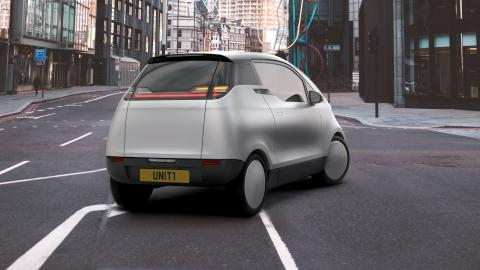licence-plate: (139, 170, 190, 184)
